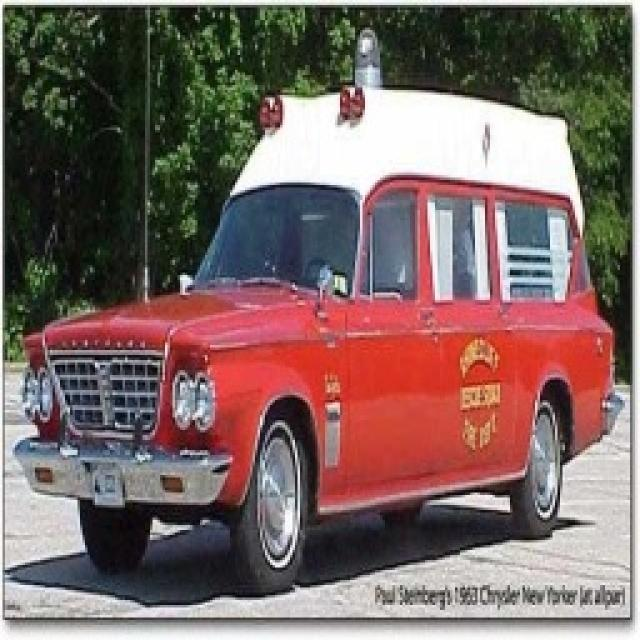emergency-vehicle: (17, 29, 625, 596)
